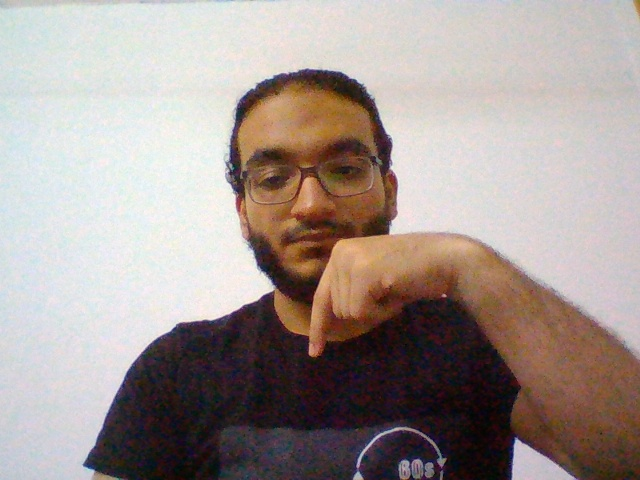Yes: (299, 227, 480, 358)
